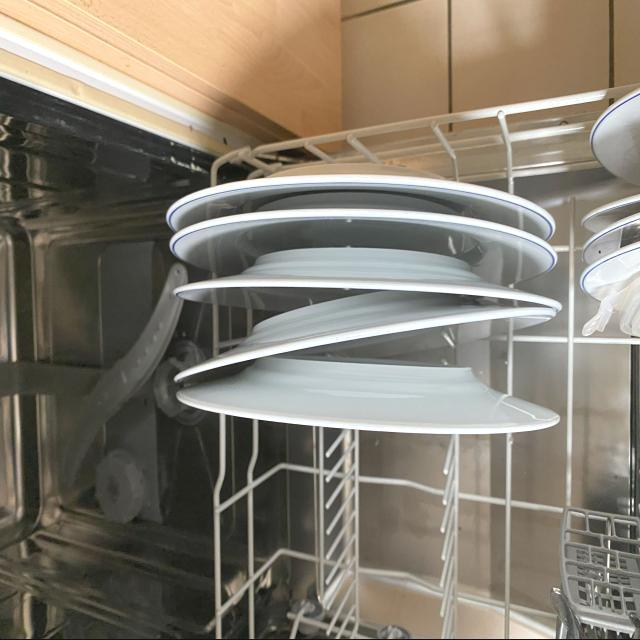empty_slot: (237, 459, 515, 637)
